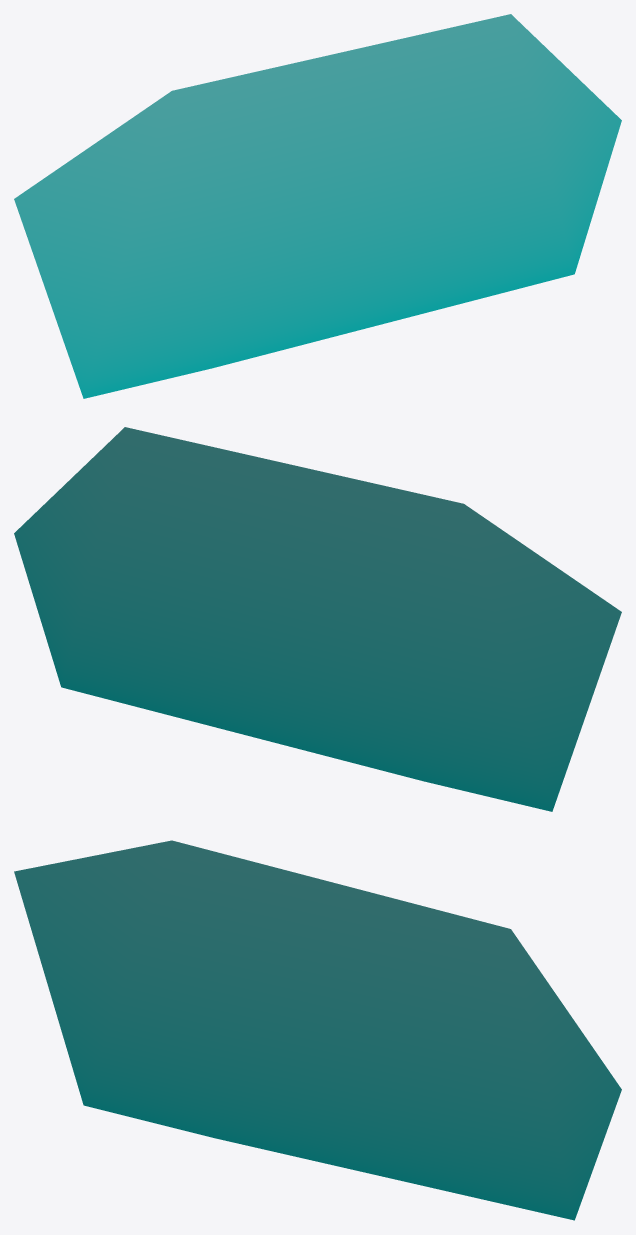
File: Matted_Pratia_uegjcflia_Mid_uegjcflia_VarH_LOD2.fbx
The picture shows the model from 3 angles, top to bottom: view 1: azimuth 30°, elevation 25°; view 2: azimuth 150°, elevation 25°; view 3: azimuth 330°, elevation 25°; orthographic projection.
Parts seen in each view (by area): view 1: _2b81_VarH_LOD3; view 2: _2b81_VarH_LOD3; view 3: _2b81_VarH_LOD3.
Part boxes in pixels (x1,y1,x2,y2): _2b81_VarH_LOD3: (14,14,621,398); _2b81_VarH_LOD3: (14,427,621,811); _2b81_VarH_LOD3: (14,840,621,1220).
Size of the model in its own units: 17.02 by 7.69 by 0.
